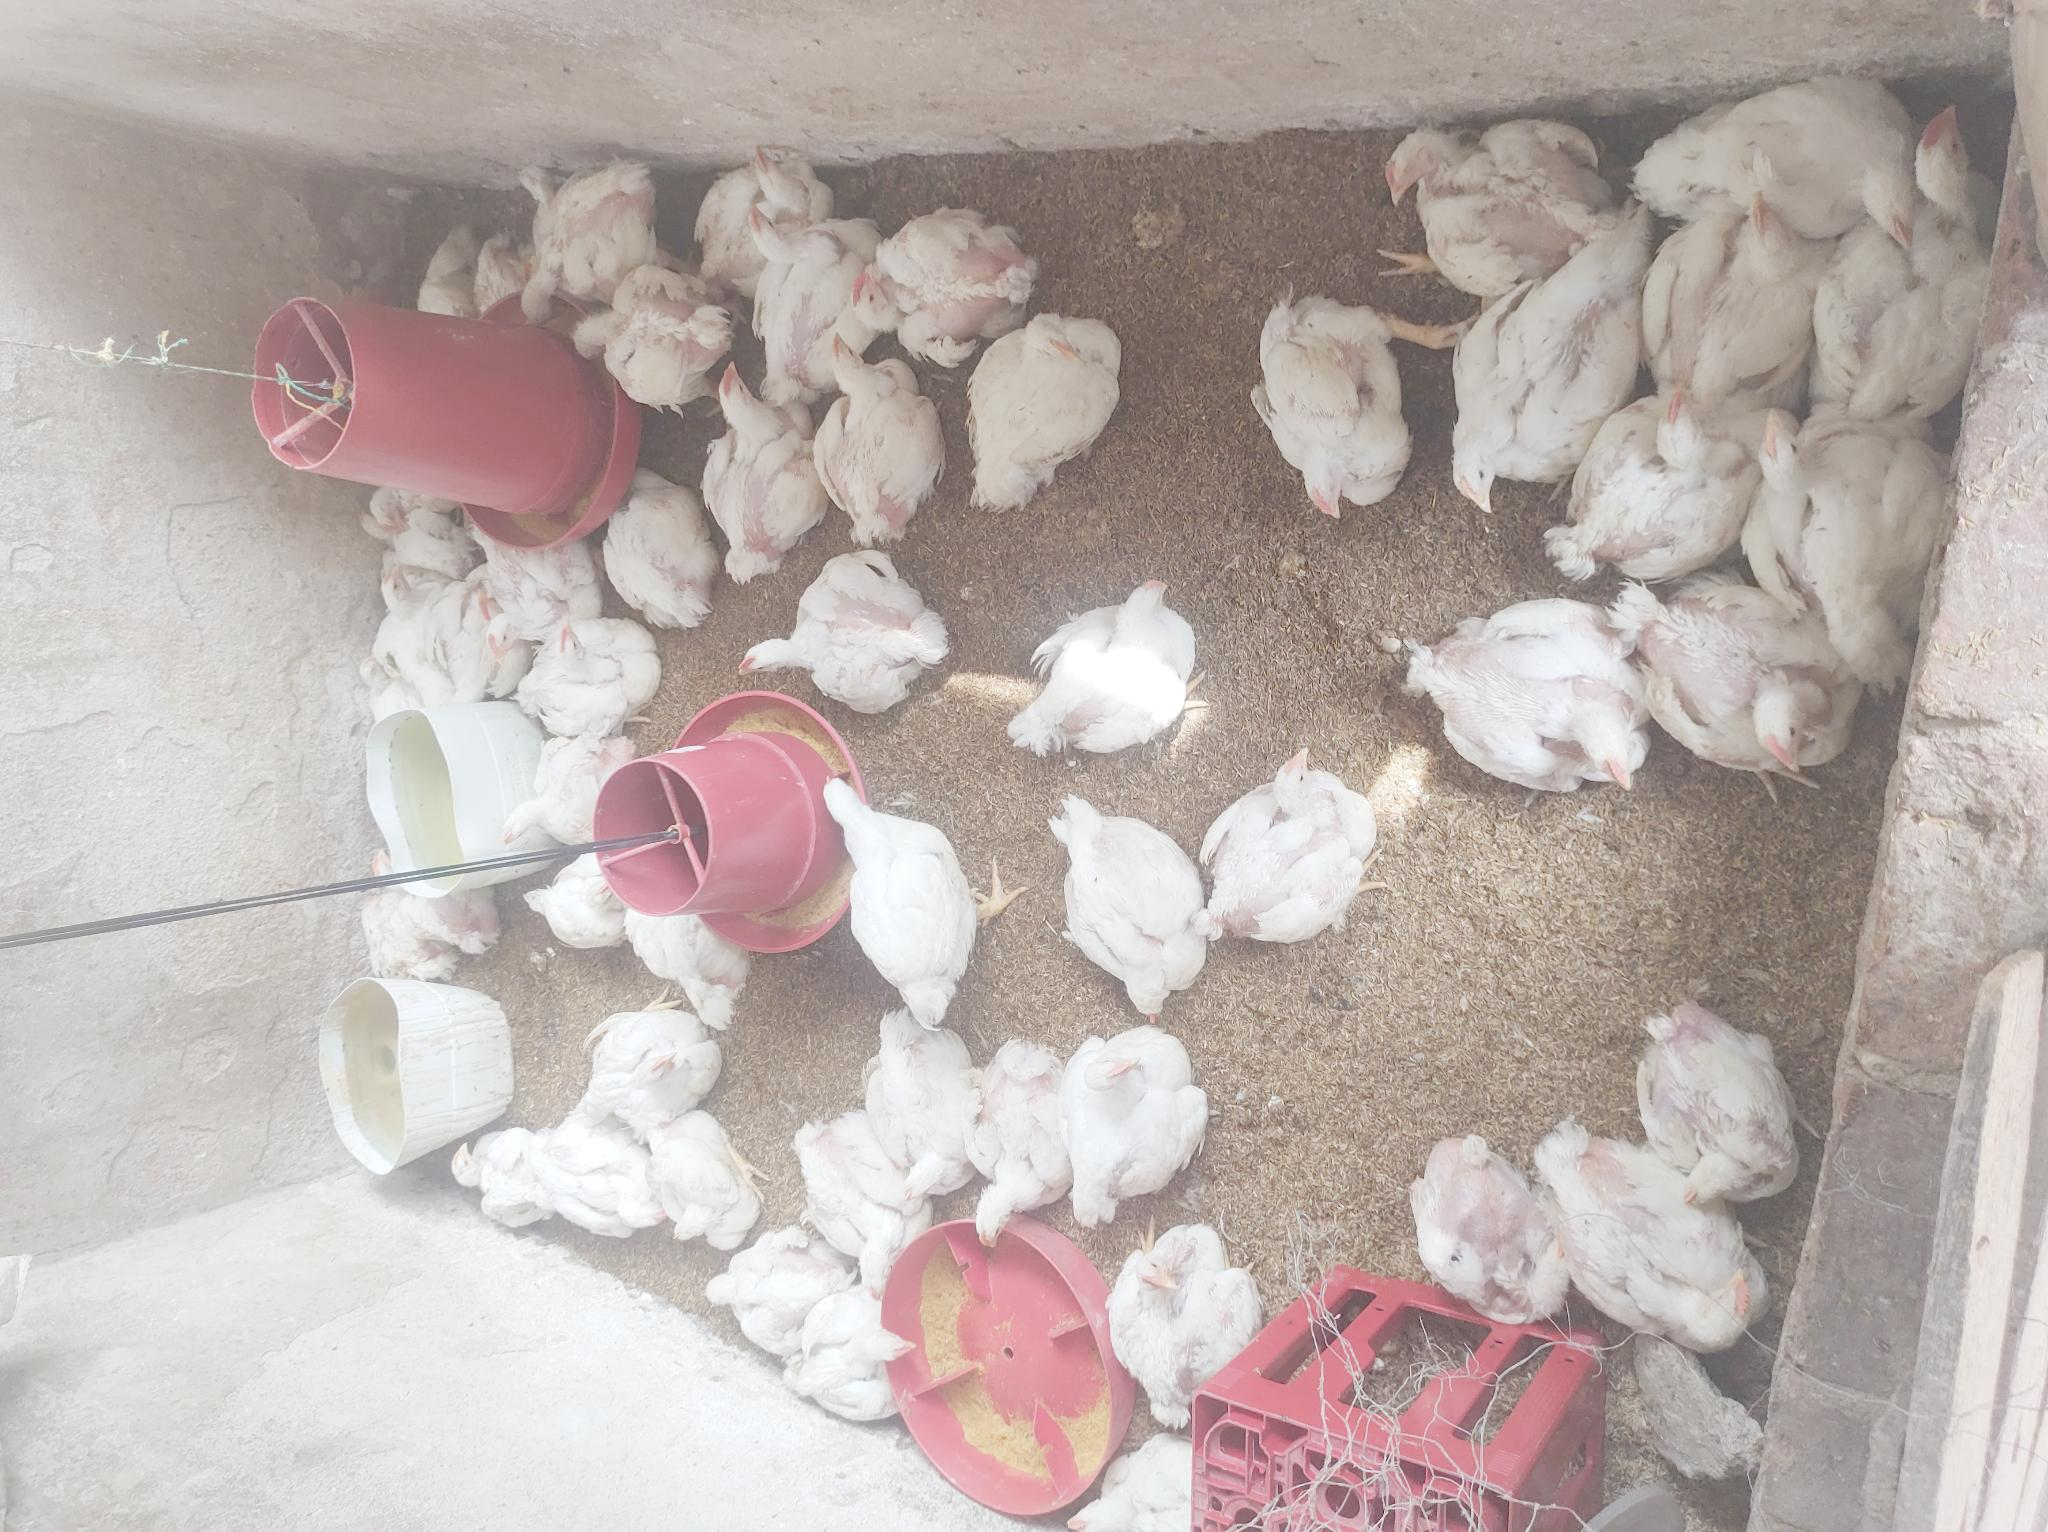Pollos: (1828, 105, 2022, 433), (1437, 229, 1652, 504), (1736, 417, 1964, 661), (1396, 586, 1646, 803), (1541, 1112, 1773, 1340), (1662, 47, 1918, 253), (1380, 101, 1683, 275), (1622, 574, 1853, 790), (989, 574, 1223, 785), (1649, 191, 1840, 438), (943, 306, 1145, 531), (806, 772, 989, 1020), (1023, 790, 1226, 1011), (1393, 1112, 1588, 1337), (1630, 983, 1837, 1192), (1538, 389, 1763, 578), (750, 526, 943, 735), (1263, 275, 1424, 526), (1202, 748, 1393, 957), (1115, 1213, 1289, 1440), (856, 166, 1041, 377), (853, 970, 1022, 1196), (782, 1109, 948, 1291), (732, 198, 890, 386), (745, 1307, 943, 1452), (1071, 1019, 1208, 1223), (698, 359, 812, 587), (796, 336, 923, 531), (692, 114, 829, 291), (578, 259, 732, 414), (528, 151, 655, 333), (624, 890, 806, 1015), (973, 1028, 1075, 1250), (590, 460, 713, 632), (343, 837, 486, 983), (574, 988, 735, 1112), (520, 615, 664, 747), (664, 1213, 837, 1320), (648, 1093, 763, 1241), (430, 1109, 544, 1254), (513, 726, 661, 837), (533, 1106, 655, 1233), (1060, 1435, 1219, 1532), (483, 526, 594, 652), (523, 853, 658, 954), (365, 562, 467, 686), (402, 212, 491, 327), (365, 497, 463, 587), (339, 655, 426, 739), (362, 463, 473, 521), (446, 571, 507, 623)
